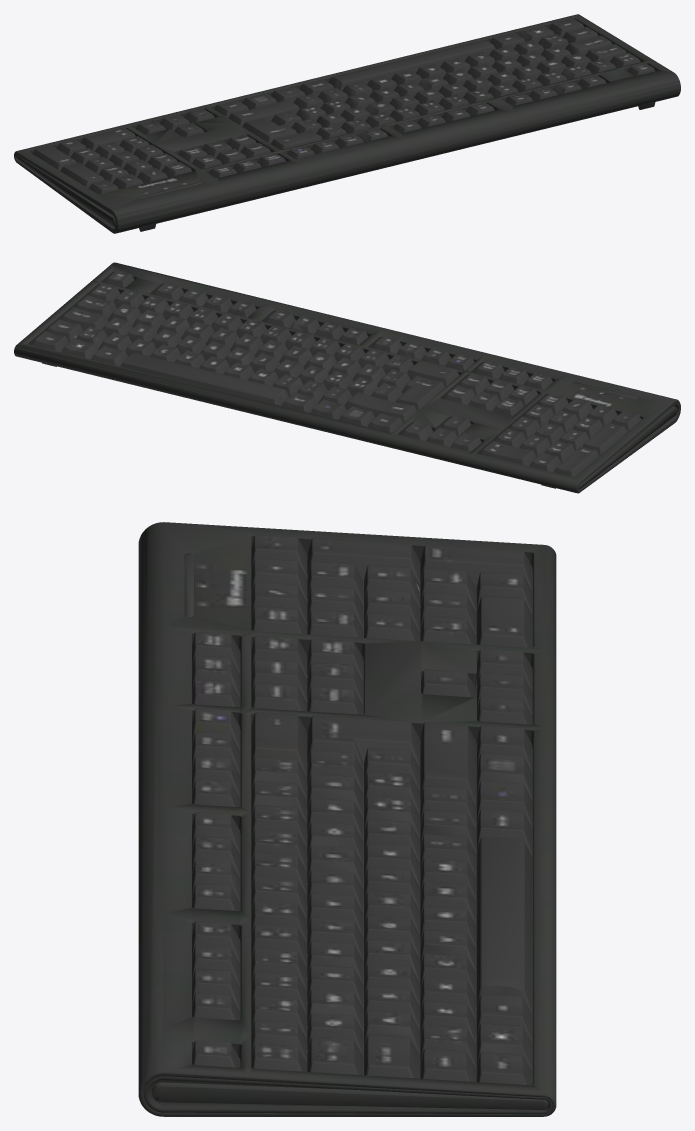
The model's file is sr_computer_keyboard_a01.glb.
3 views of the same model, one above another, from view 1: azimuth 30°, elevation 25°; view 2: azimuth 150°, elevation 25°; view 3: azimuth 270°, elevation 25° (orthographic). The views are drawn at different scales.
Parts seen in each view (by area): view 1: sm_computer_keyboard_a01_mesh_00_1; view 2: sm_computer_keyboard_a01_mesh_00_1; view 3: sm_computer_keyboard_a01_mesh_00_1.
Part boxes in pixels (box(x1,y1,x2,y2)): sm_computer_keyboard_a01_mesh_00_1: box(14, 14, 680, 233); sm_computer_keyboard_a01_mesh_00_1: box(14, 262, 680, 493); sm_computer_keyboard_a01_mesh_00_1: box(138, 522, 556, 1116).
Size of the model in its own units: 0.442 by 0.0202 by 0.142.
Materials: 1 (1 with a texture image).
